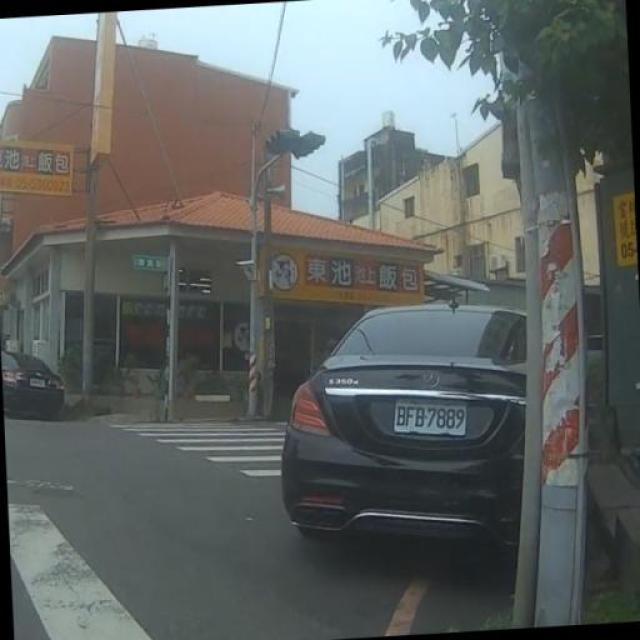illegalparking: (260, 298, 585, 601)
